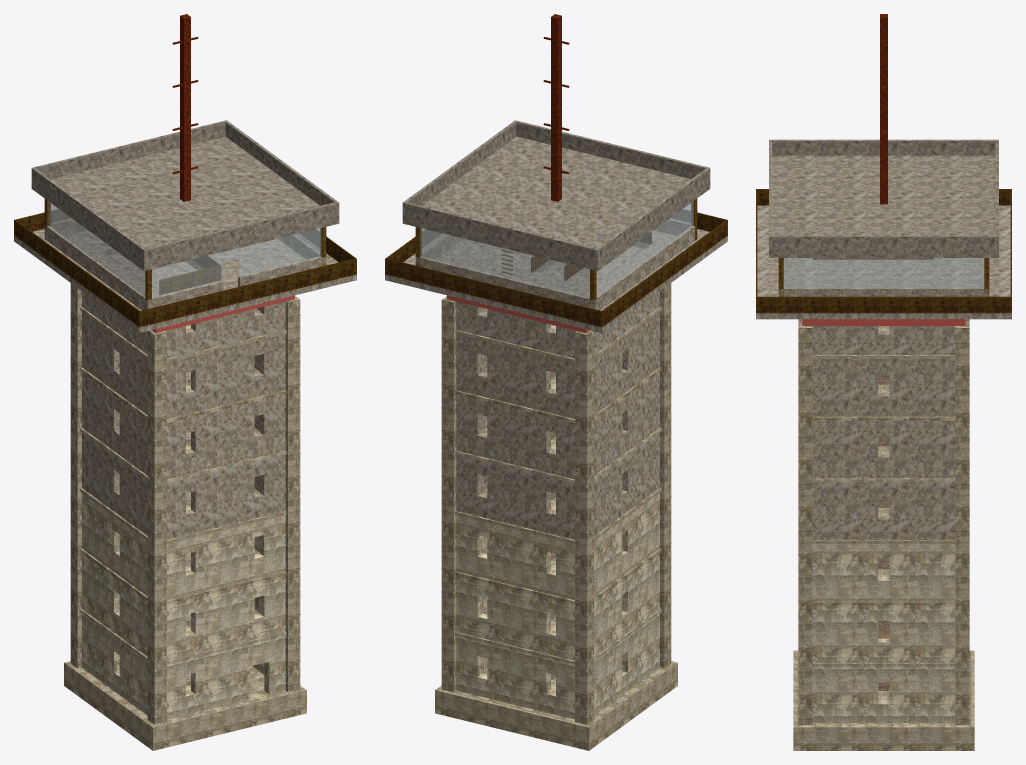
The model's file is bw-tower.bw-v1.lod0.glb.
3 renders of one model, left to right at view 1: azimuth 30°, elevation 25°; view 2: azimuth 150°, elevation 25°; view 3: azimuth 270°, elevation 25°, orthographic.
Parts seen in each view (by area): view 1: bw-tower; view 2: bw-tower; view 3: bw-tower.
Boxes of the visible parts, x1,y1,x2,y2 form: bw-tower: (14, 14, 356, 750); bw-tower: (385, 14, 727, 750); bw-tower: (756, 14, 1011, 750).
Size of the model in its own units: 15.8 by 47.5 by 15.8.
Materials: 7 (5 with a texture image).
